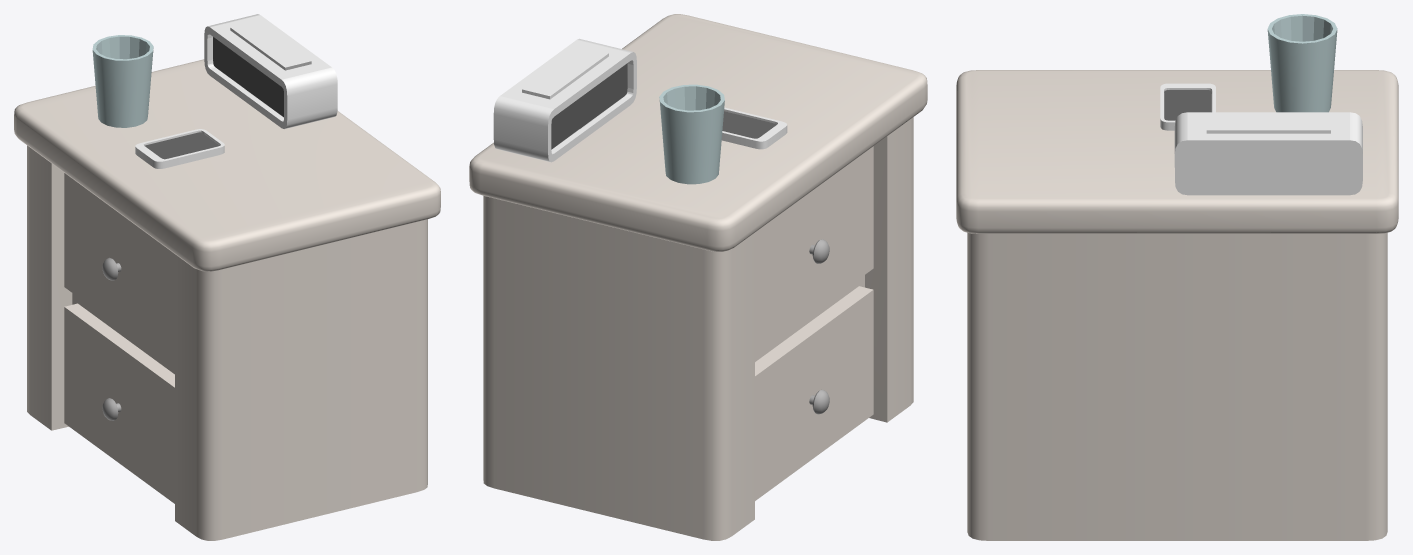
File: 3D_Prop_BedsideTable.fbx
3 renders of one model, left to right at view 1: azimuth 30°, elevation 25°; view 2: azimuth 150°, elevation 25°; view 3: azimuth 270°, elevation 25°, orthographic. The views are drawn at different scales.
Parts seen in each view (by area): view 1: BedsideTable; view 2: BedsideTable; view 3: BedsideTable.
Boxes of the visible parts, bbox=[...] form: BedsideTable: bbox=[14, 14, 440, 540]; BedsideTable: bbox=[469, 14, 927, 540]; BedsideTable: bbox=[956, 14, 1398, 540].
Bounding box in the file's own units: 181 × 263 × 250.
3 materials, 3 textured.
